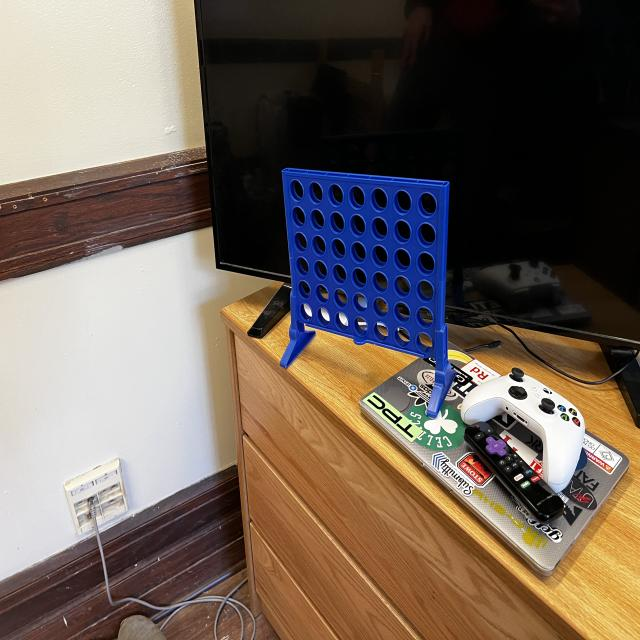Board: (283, 165, 450, 366)
